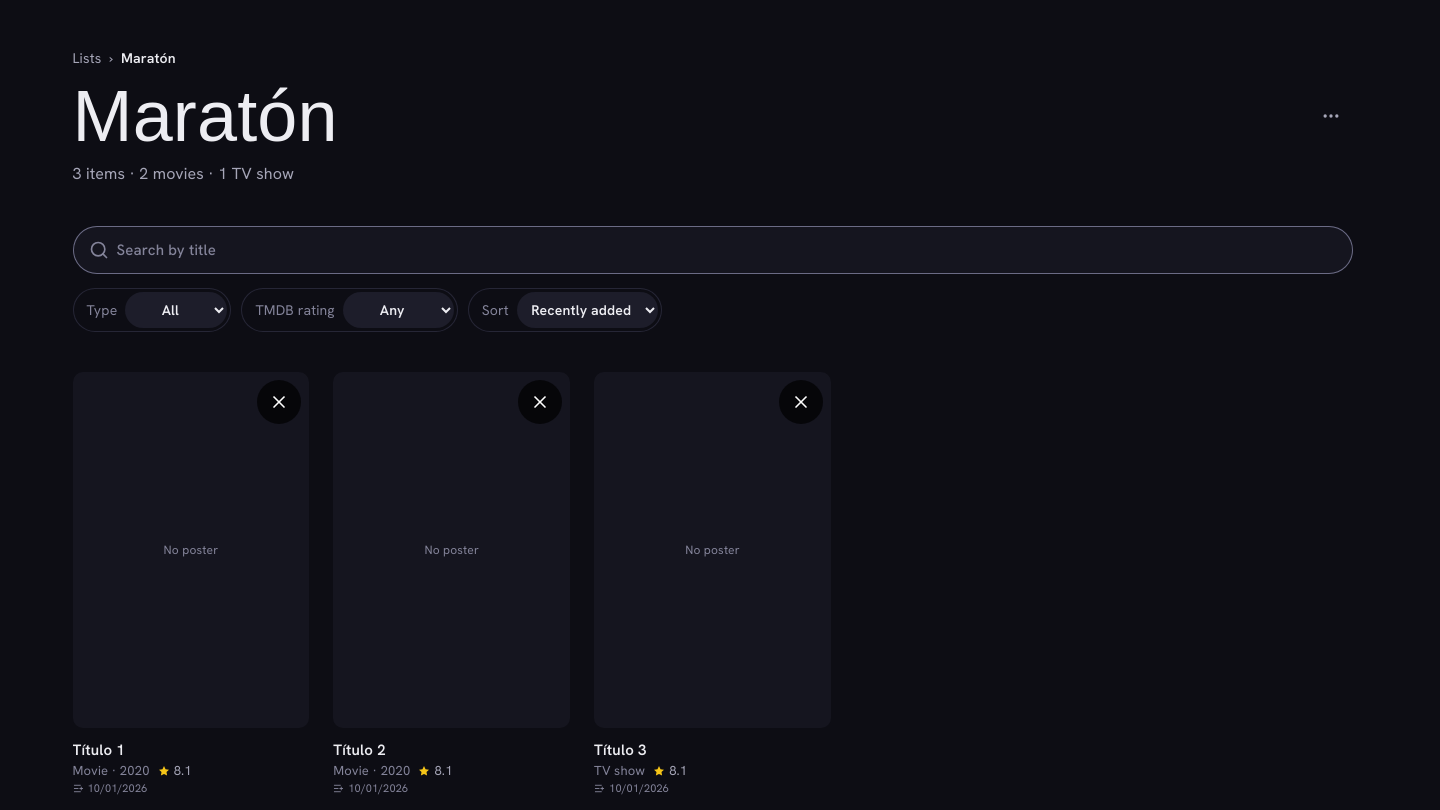
Detalle de una lista › quita un ítem con confirmación y actualiza los contadores
Expected: the link "No poster Título 1 Movie · 2020 8.1 10/01/2026" is shown, [72,372,309,797]
Step 1. Click the button named "Remove Título 1 from Maratón" → point(279, 402), box [257,380,301,424]
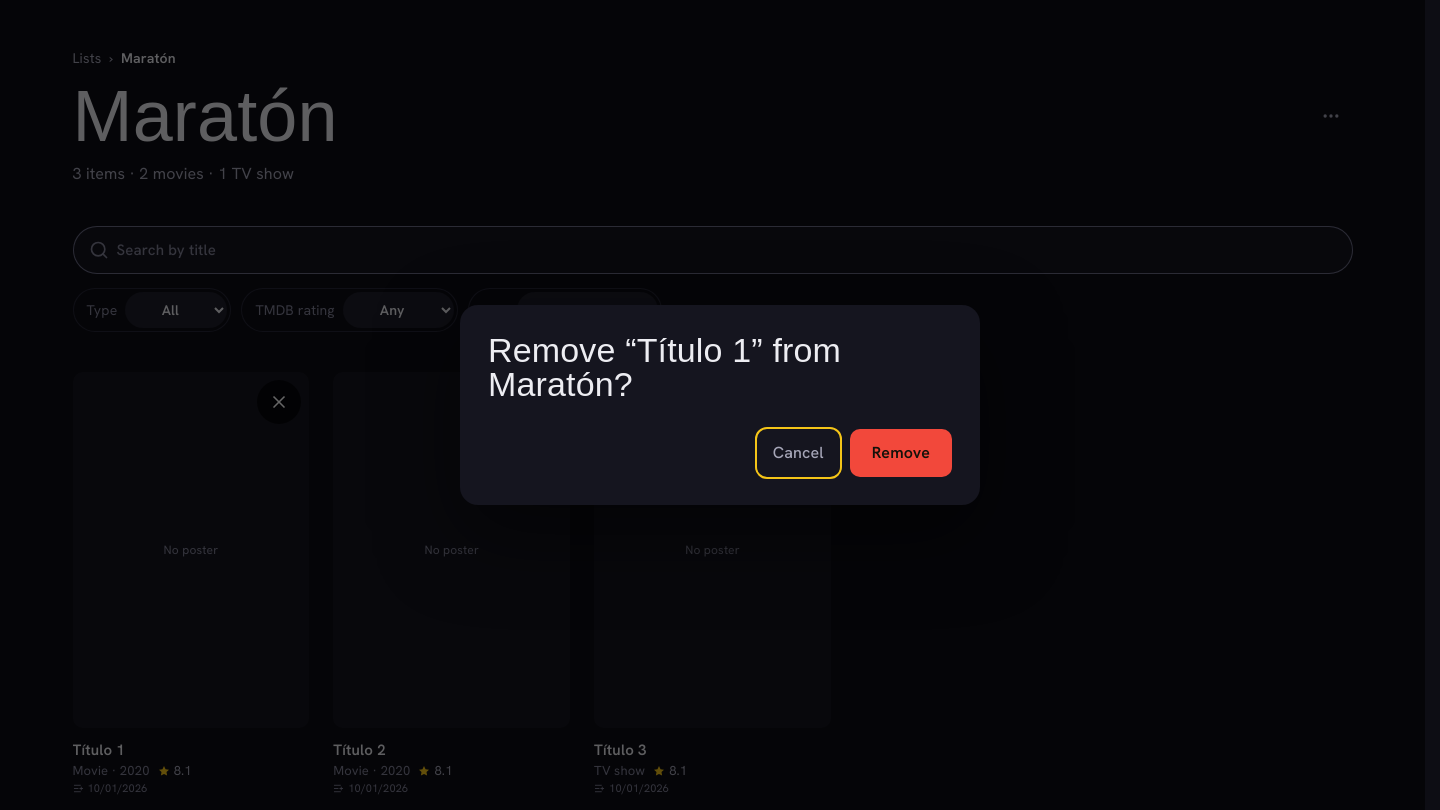
Step 2. Click the button "Remove" → point(901, 453), box [850,429,952,477]
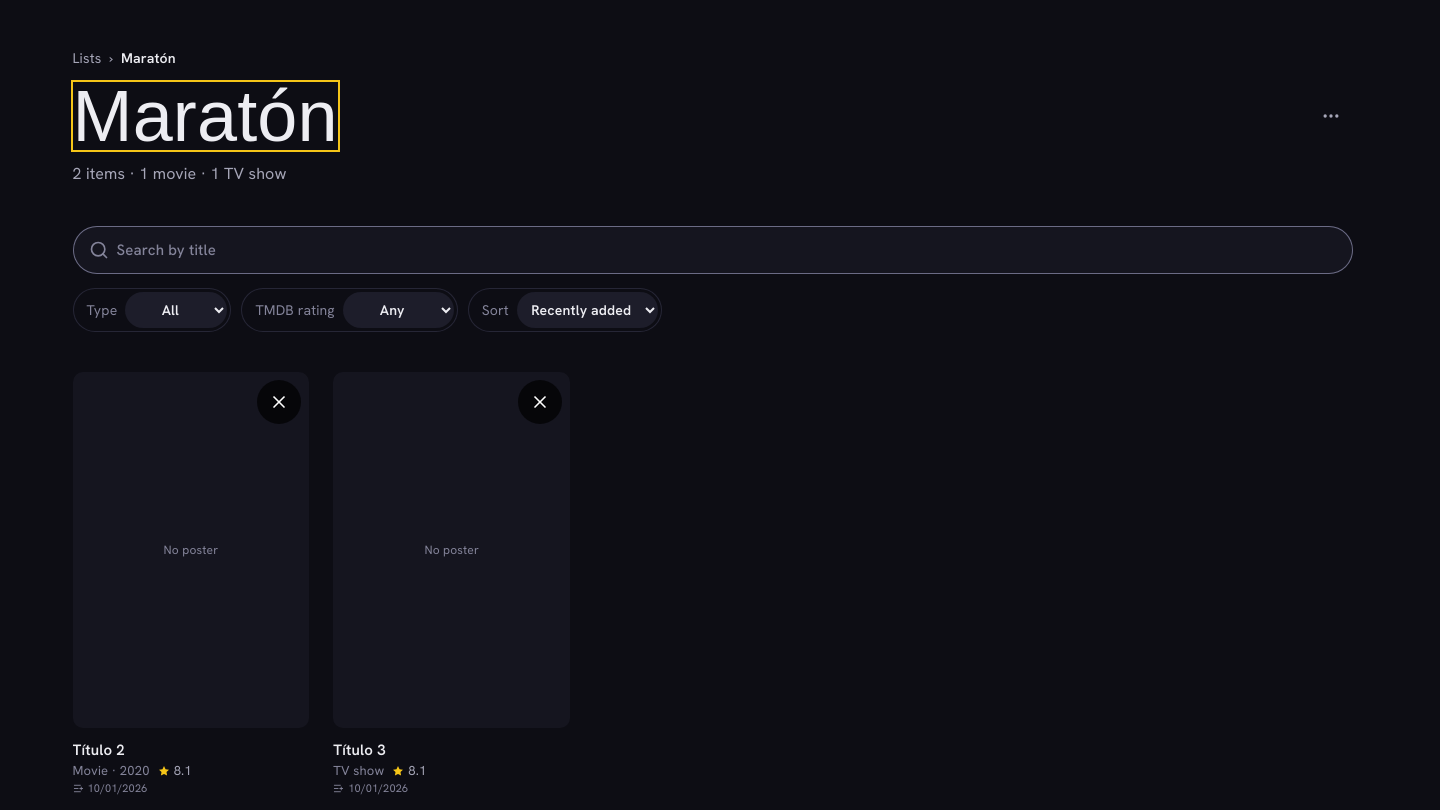
Now the link "Título 1" is gone
Now the text "2 items · 1 movie · 1 TV show" is shown, box [72,163,286,184]
